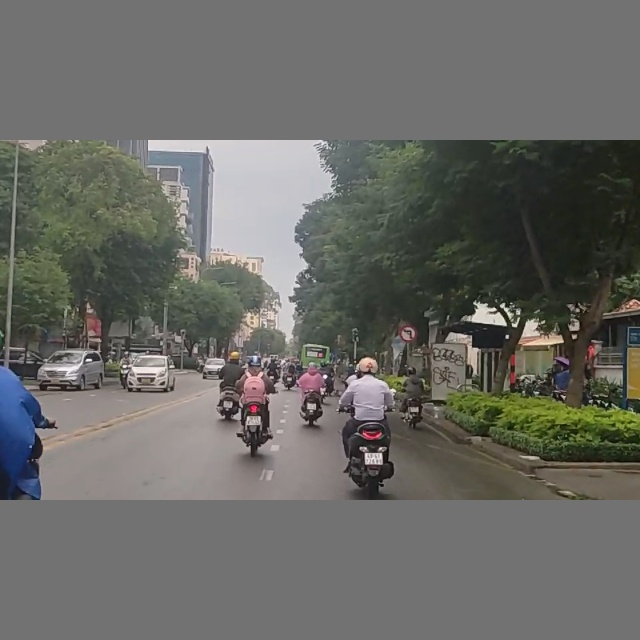P.123a: (399, 323, 418, 341)
